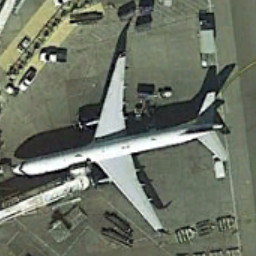Airplane: (4, 46, 237, 245)
